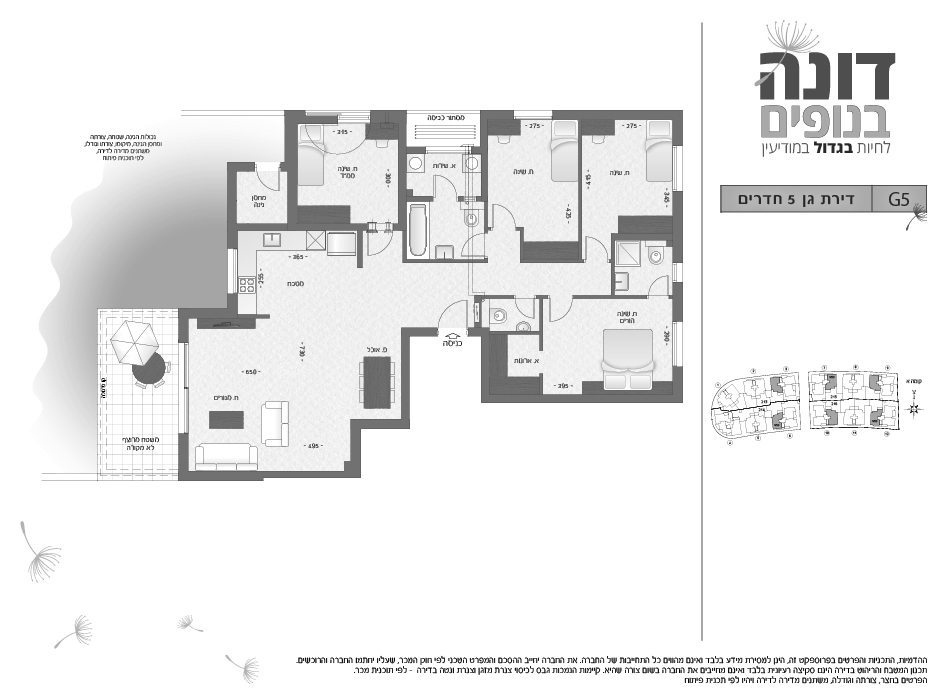window: (177, 343, 189, 435), (225, 248, 238, 296), (671, 146, 682, 192), (671, 321, 682, 367), (511, 109, 552, 119), (336, 114, 372, 123), (671, 262, 682, 283)
